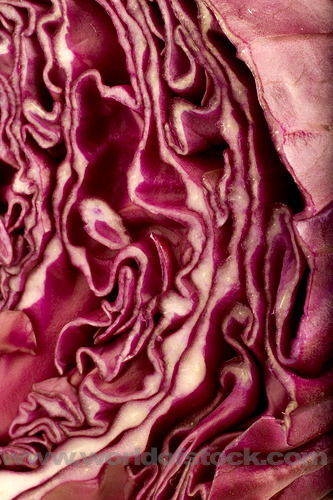cabbage: (0, 0, 331, 498)
